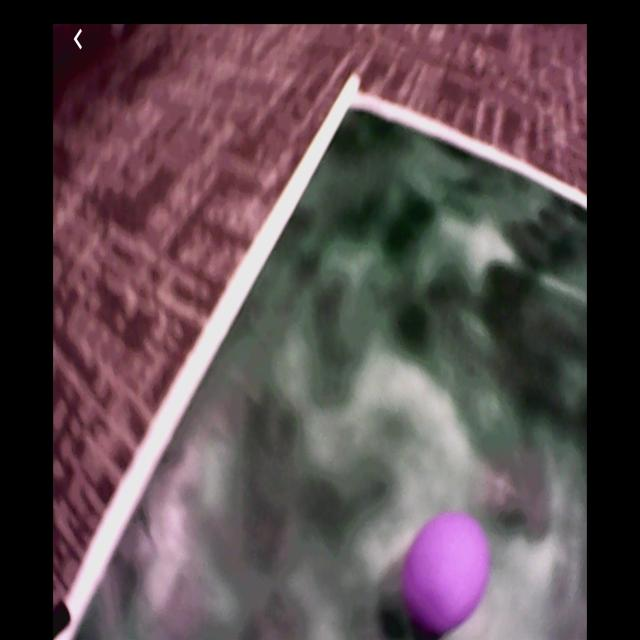ball: (399, 506, 490, 637)
